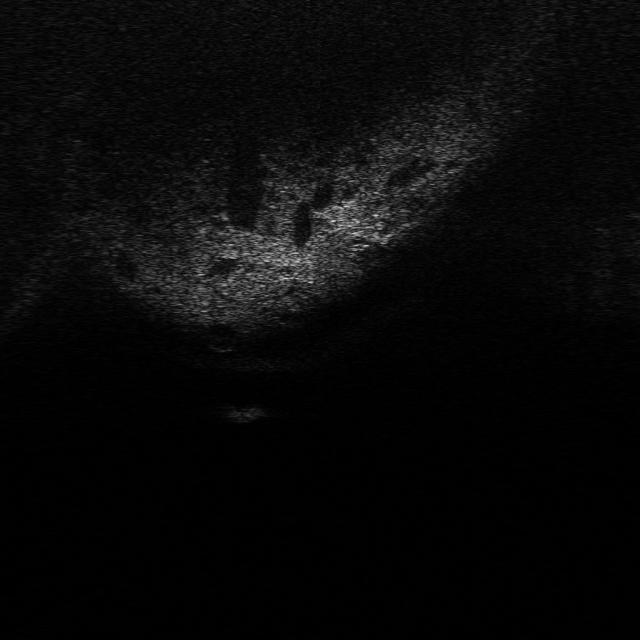cube: (209, 402, 267, 425)
